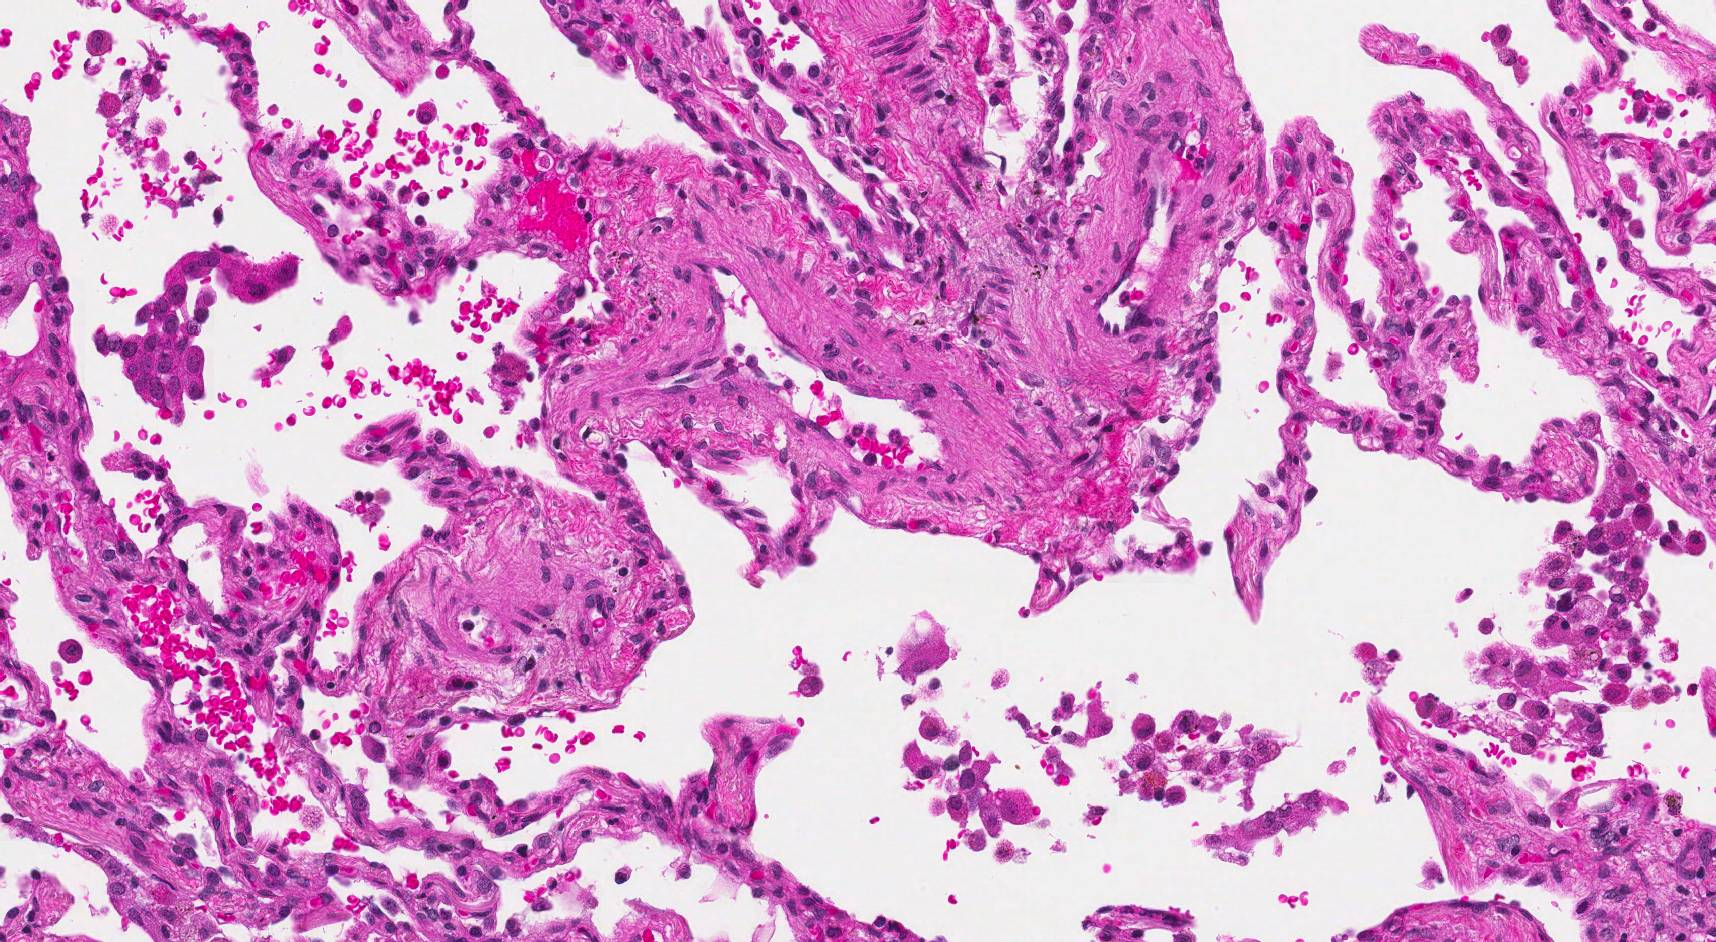stas: (94, 248, 300, 424)
